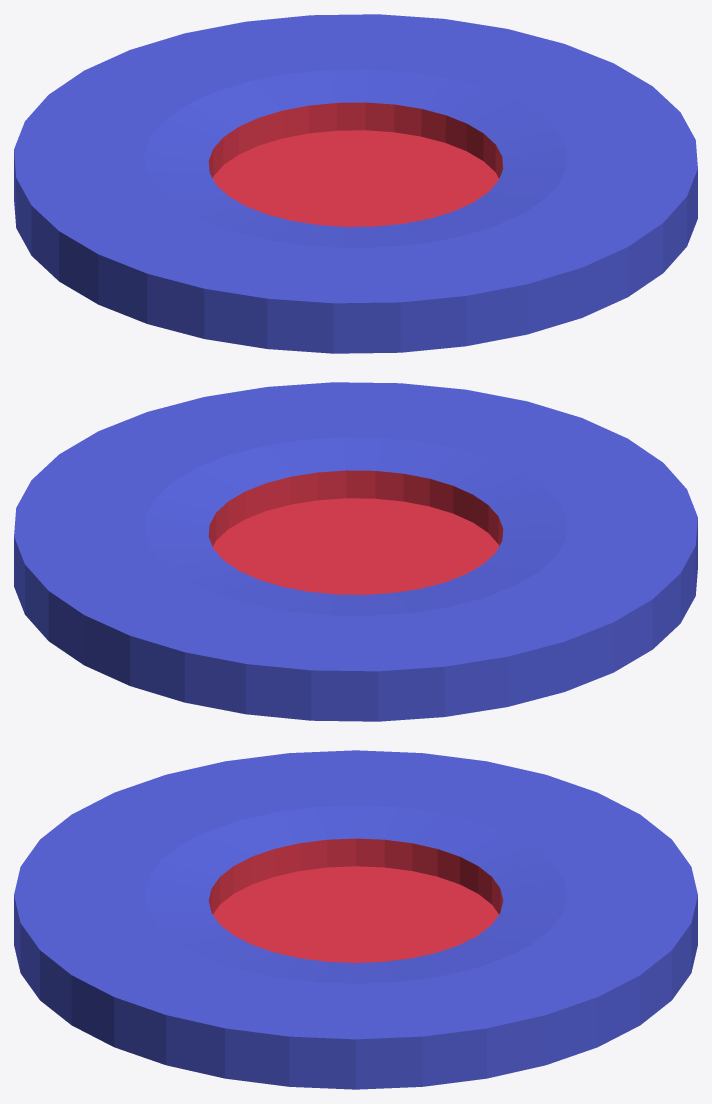
The model's file is DiscThrower_Disc.fbx.
The picture shows the model from 3 angles, top to bottom: view 1: azimuth 30°, elevation 25°; view 2: azimuth 150°, elevation 25°; view 3: azimuth 270°, elevation 25°; orthographic projection.
Visible parts, largest first — view 1: Cylinder; view 2: Cylinder; view 3: Cylinder.
Boxes of the visible parts, box(x1,y1,x2,y2) form: Cylinder: box(14, 14, 697, 353); Cylinder: box(14, 382, 697, 721); Cylinder: box(14, 750, 697, 1089).
Bounding box in the file's own units: 201 × 16.38 × 201.
